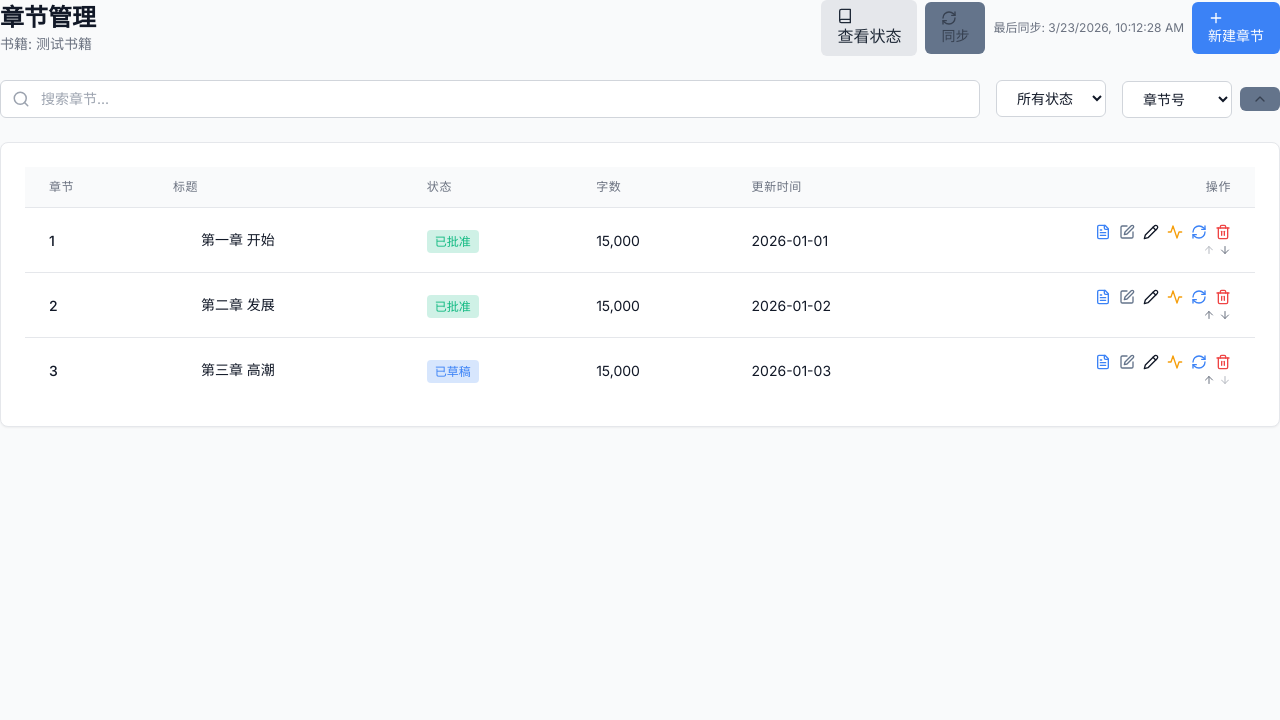
Chapters Component › opens edit chapter modal when clicking edit button
Click the button titled "编辑内容" in the row of "第一章 开始" at (1127, 232), box [1119,224,1135,240]
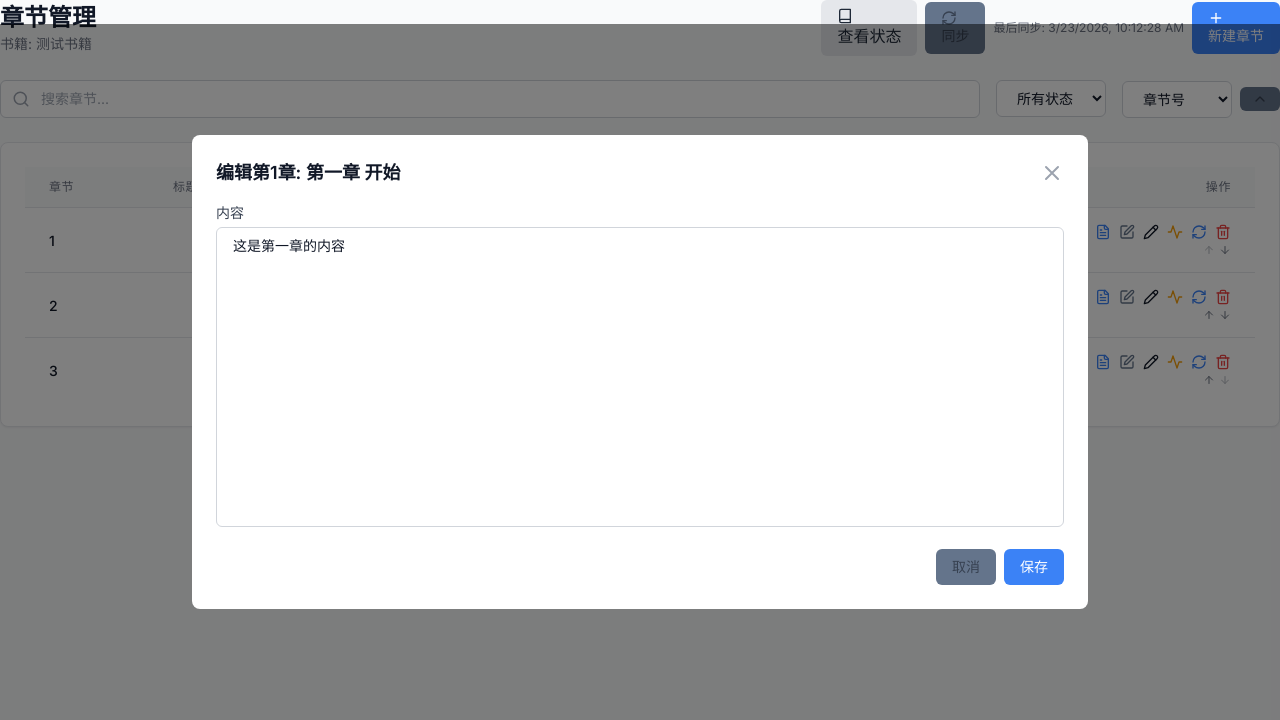
Now the heading "编辑第1章: 第一章 开始" is shown, box [216,159,400,187]
